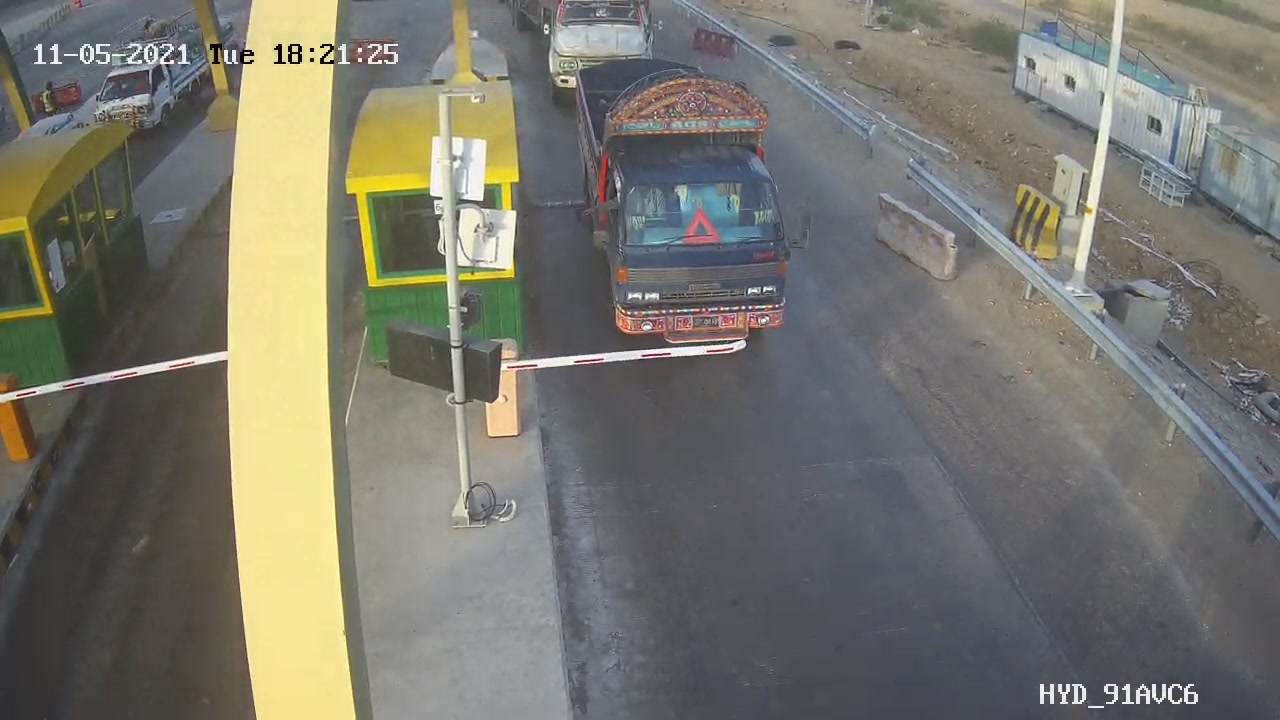F5: (579, 54, 787, 346)
